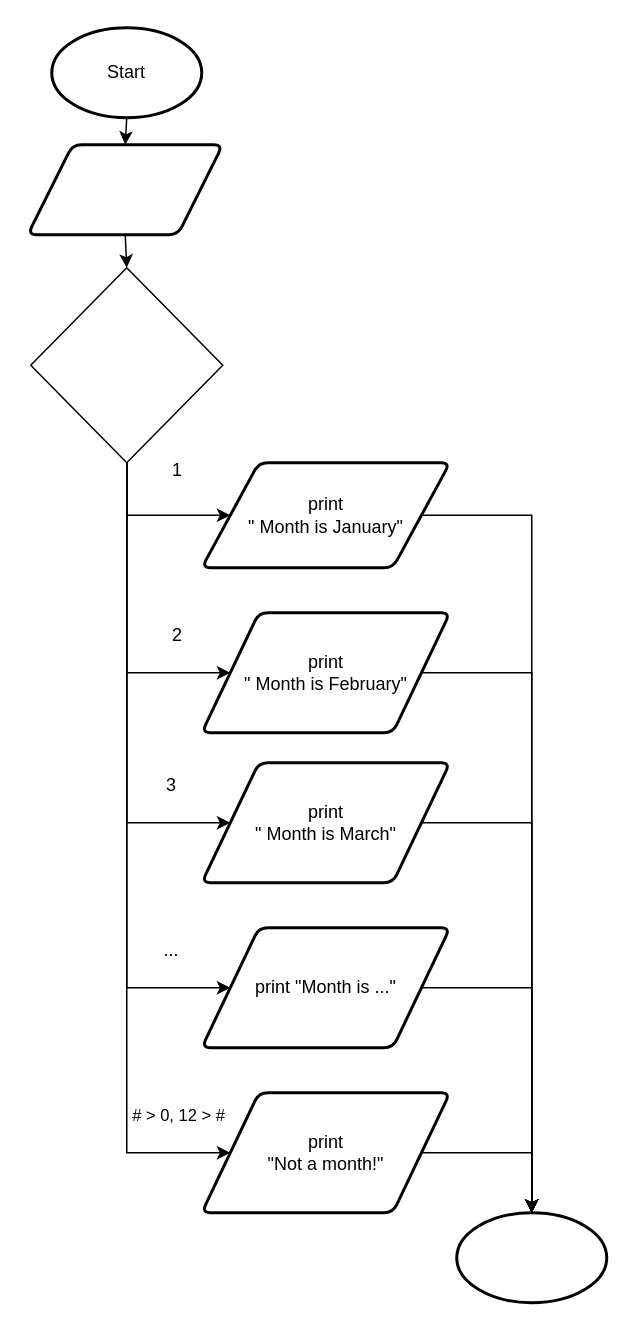
The diagram is 633 pixels wide and 1329 high, and some of its shapes have lost their labels. The shapes that lost their labels are listed below. From the top down, each one's centre as x and y in pixels, then its label:
At point 125,189: "Get month_number".
At point 126,364: "select (month_number)".
At point 531,1257: "Stop".
